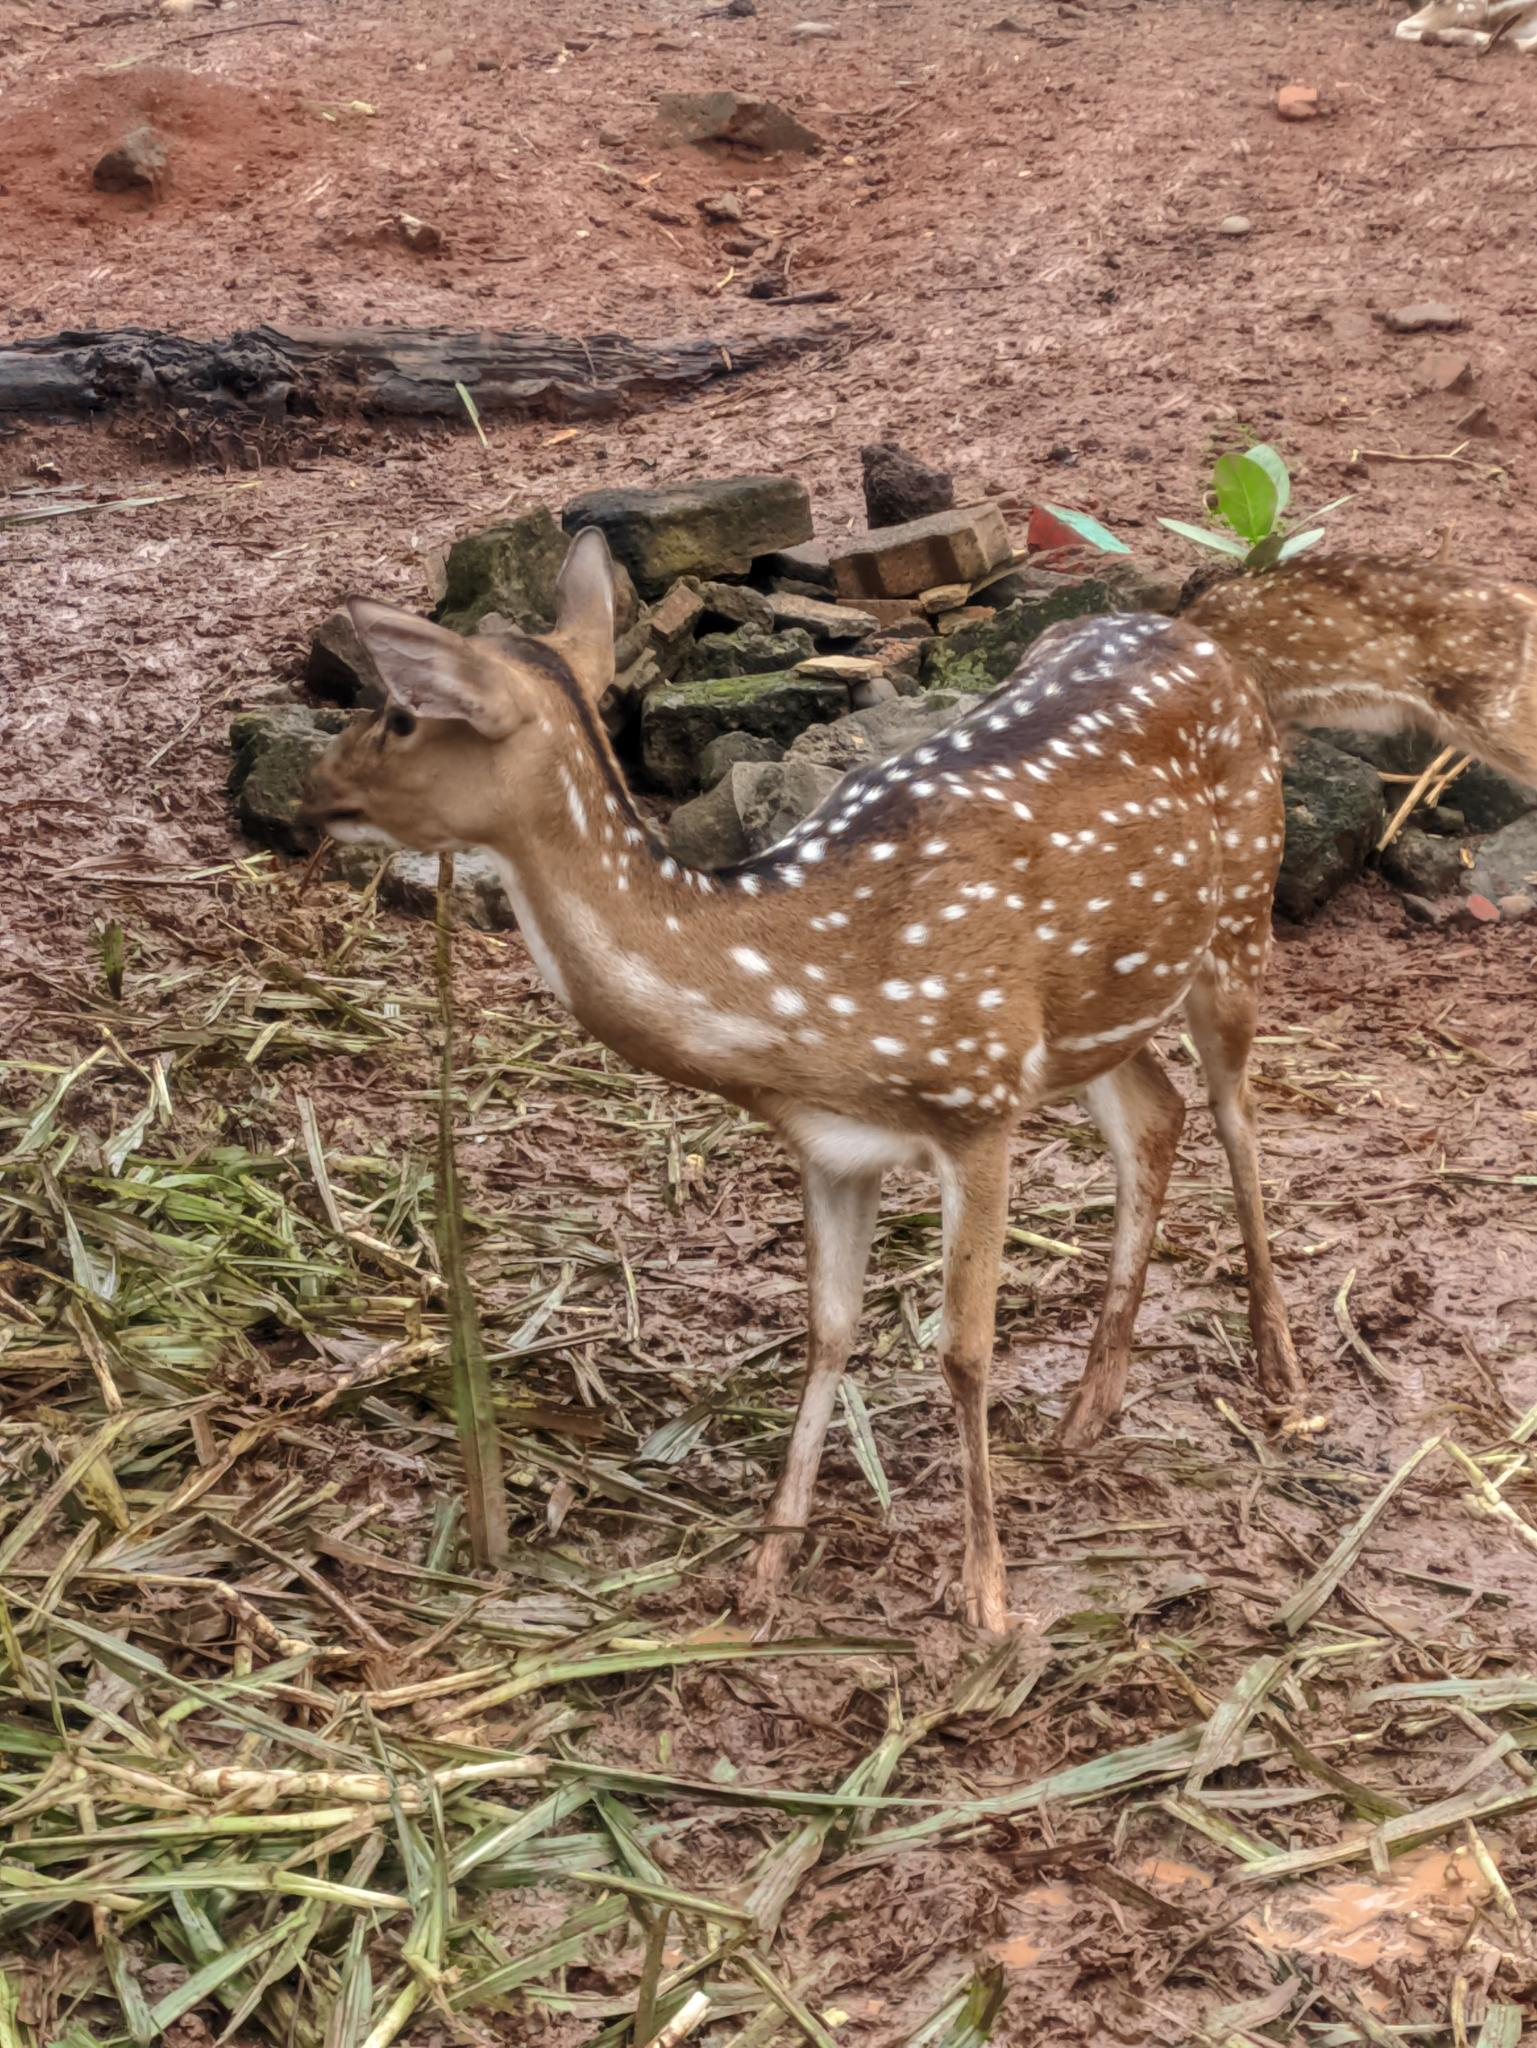Deer: (304, 529, 1296, 1628)
